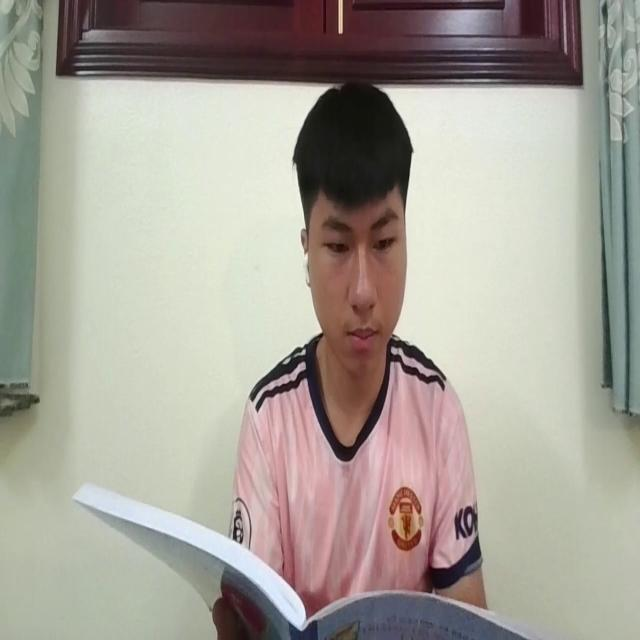book: (74, 464, 524, 640)
student: (218, 68, 486, 640)
